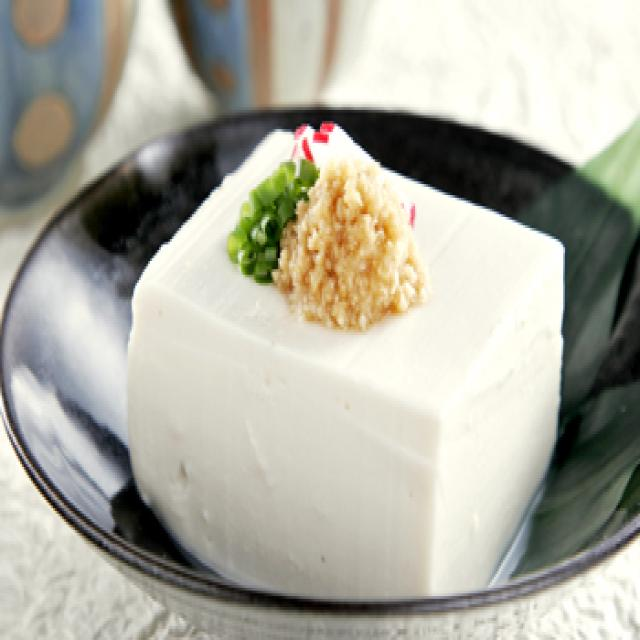豆腐料理: (120, 118, 560, 602)
